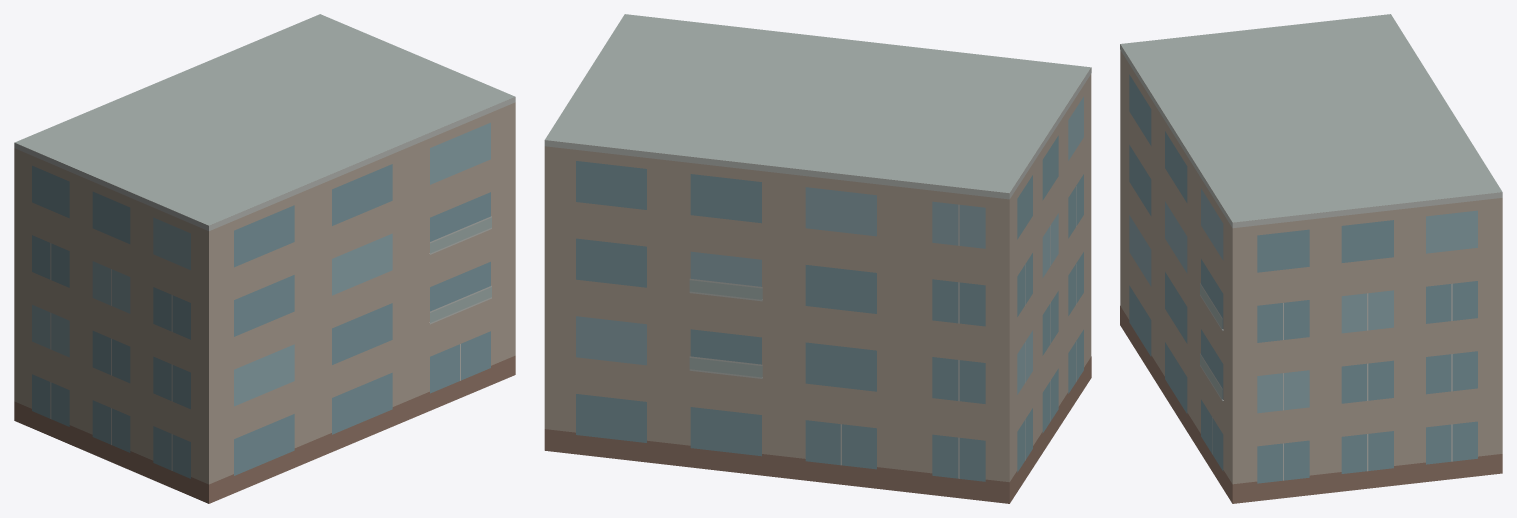
Rendered from survey-upis-33022058.glb.
3 renders of one model, left to right at view 1: azimuth 30°, elevation 25°; view 2: azimuth 150°, elevation 25°; view 3: azimuth 270°, elevation 25°, orthographic. The views are drawn at different scales.
Parts seen in each view (by area): view 1: survey-upis-33022058.tmp; view 2: survey-upis-33022058.tmp; view 3: survey-upis-33022058.tmp.
Part boxes in pixels (x1,y1,x2,y2): survey-upis-33022058.tmp: [14, 14, 515, 503]; survey-upis-33022058.tmp: [544, 14, 1091, 503]; survey-upis-33022058.tmp: [1120, 14, 1502, 503].
Bounding box in the file's own units: 19.42 × 12.2 × 15.05.
